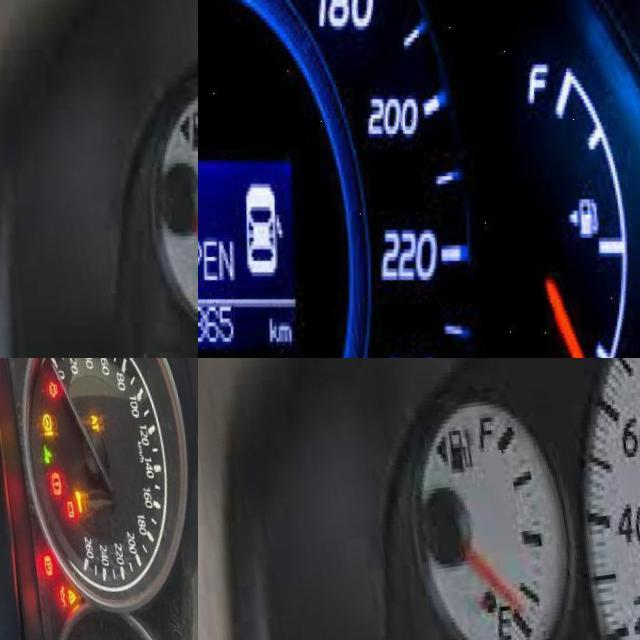Electronic Power Steering: (34, 424, 46, 448)
